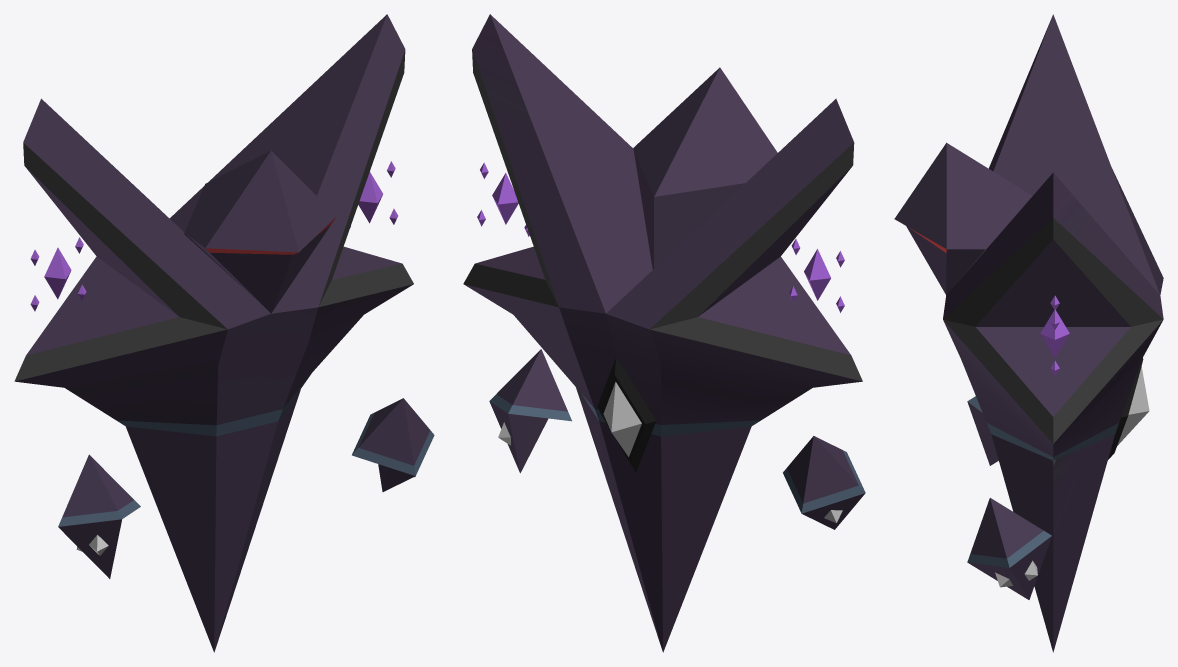
Rendered from enemy_dasher_asset.fbx.
3 views of the same model, side by side, from view 1: azimuth 30°, elevation 25°; view 2: azimuth 150°, elevation 25°; view 3: azimuth 270°, elevation 25° (orthographic). The views are drawn at different scales.
Parts seen in each view (by area): view 1: dasher_body, right_hand, left_hand, diamond_orbited_right, diamond_orbited_left; view 2: dasher_body, left_hand, right_hand, diamond_orbited_right, diamond_orbited_left; view 3: dasher_body, left_hand, right_hand, diamond_orbited_left.
Part boxes in pixels (x1,y1,x2,y2): dasher_body: (14, 14, 413, 652); right_hand: (58, 454, 140, 578); left_hand: (352, 398, 434, 491); diamond_orbited_right: (44, 247, 71, 299); diamond_orbited_left: (358, 172, 382, 223); dasher_body: (463, 14, 862, 652); left_hand: (489, 349, 571, 473); right_hand: (783, 436, 865, 529); diamond_orbited_right: (804, 249, 830, 300); diamond_orbited_left: (492, 173, 518, 224); dasher_body: (894, 14, 1163, 652); left_hand: (967, 498, 1051, 599); right_hand: (967, 396, 998, 465); diamond_orbited_left: (1040, 309, 1069, 357).
Size of the model in its own units: 6.28 by 8.95 by 3.9.
